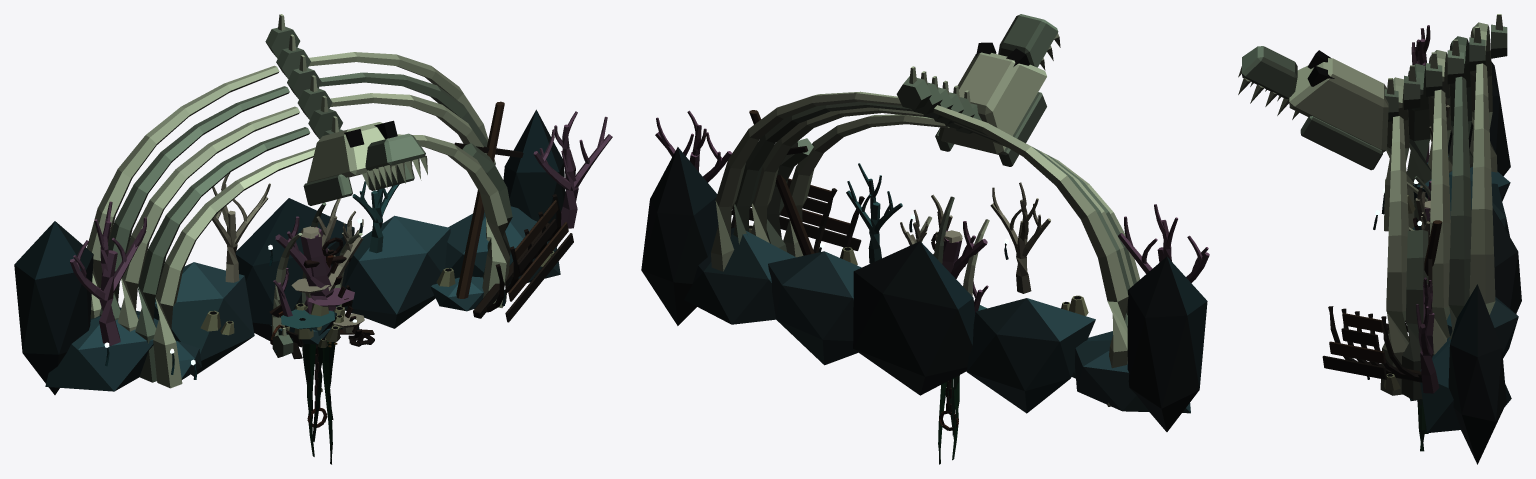
Rendered from abyss_kit_components.glb.
The picture shows the model from 3 angles, left to right: view 1: azimuth 30°, elevation 25°; view 2: azimuth 150°, elevation 25°; view 3: azimuth 270°, elevation 25°; orthographic projection.
Parts seen in each view (by area): view 1: Kit_LeviathanArch, Kit_CoralColumn, Kit_CoralShelf, Kit_Kelp, Kit_RibBones, Kit_Anchor, Kit_Barnacles; view 2: Kit_LeviathanArch, Kit_CoralColumn, Kit_RibBones, Kit_Kelp; view 3: Kit_LeviathanArch, Kit_CoralColumn, Kit_Kelp.
Part boxes in pixels (x1,y1,x2,y2): Kit_LeviathanArch: (14,14,612,394); Kit_CoralColumn: (275,198,363,344); Kit_CoralShelf: (273,268,364,335); Kit_Kelp: (302,341,335,464); Kit_RibBones: (271,202,362,357); Kit_Anchor: (269,237,374,346); Kit_Barnacles: (283,303,344,347); Kit_LeviathanArch: (641,14,1209,431); Kit_CoralColumn: (900,194,987,278); Kit_RibBones: (914,196,989,296); Kit_Kelp: (938,375,959,464); Kit_LeviathanArch: (1238,14,1521,464); Kit_CoralColumn: (1415,181,1431,231); Kit_Kelp: (1417,399,1428,451).
Size of the model in its own units: 36.58 by 26.25 by 15.67.
